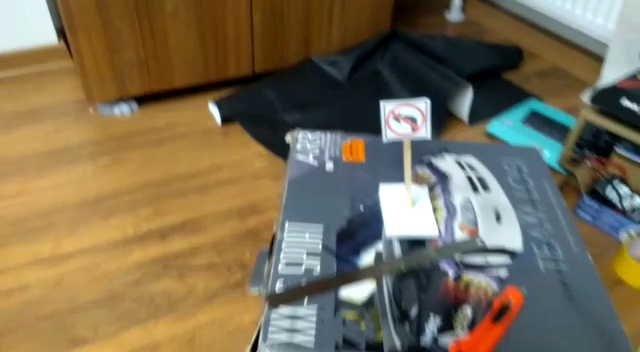sola_donulmez: (385, 101, 426, 138)
